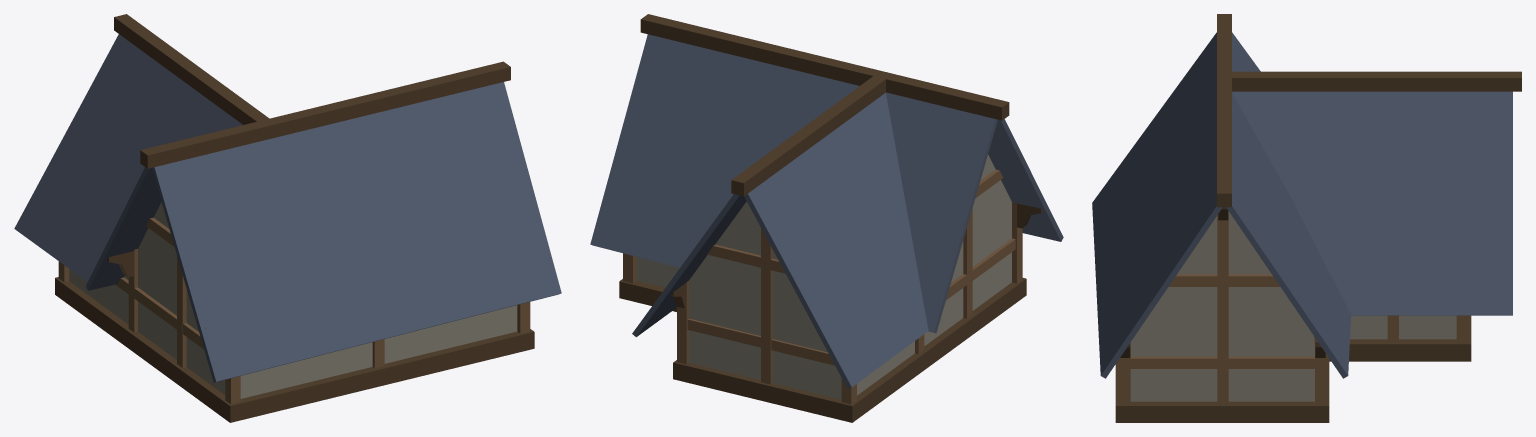
File: M_House_Roof.fbx
3 views of the same model, side by side, from view 1: azimuth 30°, elevation 25°; view 2: azimuth 150°, elevation 25°; view 3: azimuth 270°, elevation 25° (orthographic).
Parts seen in each view (by area): view 1: Toit, pCube164, Poutre_toit, pPlane6, pPlane5, Poutre_toit_1, pCube87, pCube95, pCube86; view 2: Toit, pCube5, pCube164, Poutre_toit, pPlane5, Poutre_toit_1, pCube21, pCube52, pPlane3, pCube104, pCube95, pCube87 (+2 smaller); view 3: Toit, pCube4, pCube164, Poutre_toit_1, Poutre_toit, pPlane4, pCube19, pCube51, pCube102, pCube14, pCube7.
Boxes of the visible parts, left/top/right/bottom form: Toit: left=14, top=34, right=561, bottom=382; pCube164: left=55, top=277, right=534, bottom=422; Poutre_toit: left=140, top=61, right=510, bottom=168; pPlane6: left=240, top=305, right=517, bottom=398; pPlane5: left=69, top=202, right=225, bottom=394; Poutre_toit_1: left=114, top=14, right=272, bottom=124; pCube87: left=115, top=277, right=203, bottom=349; pCube95: left=177, top=256, right=186, bottom=367; pCube86: left=128, top=249, right=137, bottom=332; Toit: left=590, top=34, right=1063, bottom=388; pCube5: left=689, top=201, right=841, bottom=399; pCube164: left=619, top=278, right=1026, bottom=422; Poutre_toit: left=640, top=14, right=1009, bottom=120; pPlane5: left=857, top=154, right=1011, bottom=395; Poutre_toit_1: left=731, top=75, right=888, bottom=196; pCube21: left=687, top=318, right=834, bottom=365; pCube52: left=761, top=228, right=772, bottom=384; pPlane3: left=636, top=257, right=679, bottom=287; pCube104: left=707, top=244, right=785, bottom=273; pCube95: left=963, top=208, right=972, bottom=318; pCube87: left=946, top=238, right=1015, bottom=299; Toit: left=1092, top=32, right=1512, bottom=378; pCube4: left=1130, top=211, right=1314, bottom=401; pCube164: left=1115, top=315, right=1471, bottom=422; Poutre_toit_1: left=1224, top=71, right=1521, bottom=91; Poutre_toit: left=1217, top=14, right=1231, bottom=207; pPlane4: left=1350, top=315, right=1456, bottom=339; pCube19: left=1130, top=356, right=1314, bottom=368; pCube51: left=1217, top=211, right=1228, bottom=404; pCube102: left=1168, top=274, right=1279, bottom=286; pCube14: left=1315, top=338, right=1326, bottom=404; pCube7: left=1119, top=343, right=1130, bottom=404.
Bounding box in the file's own units: 7.37 × 4.63 × 7.45.
